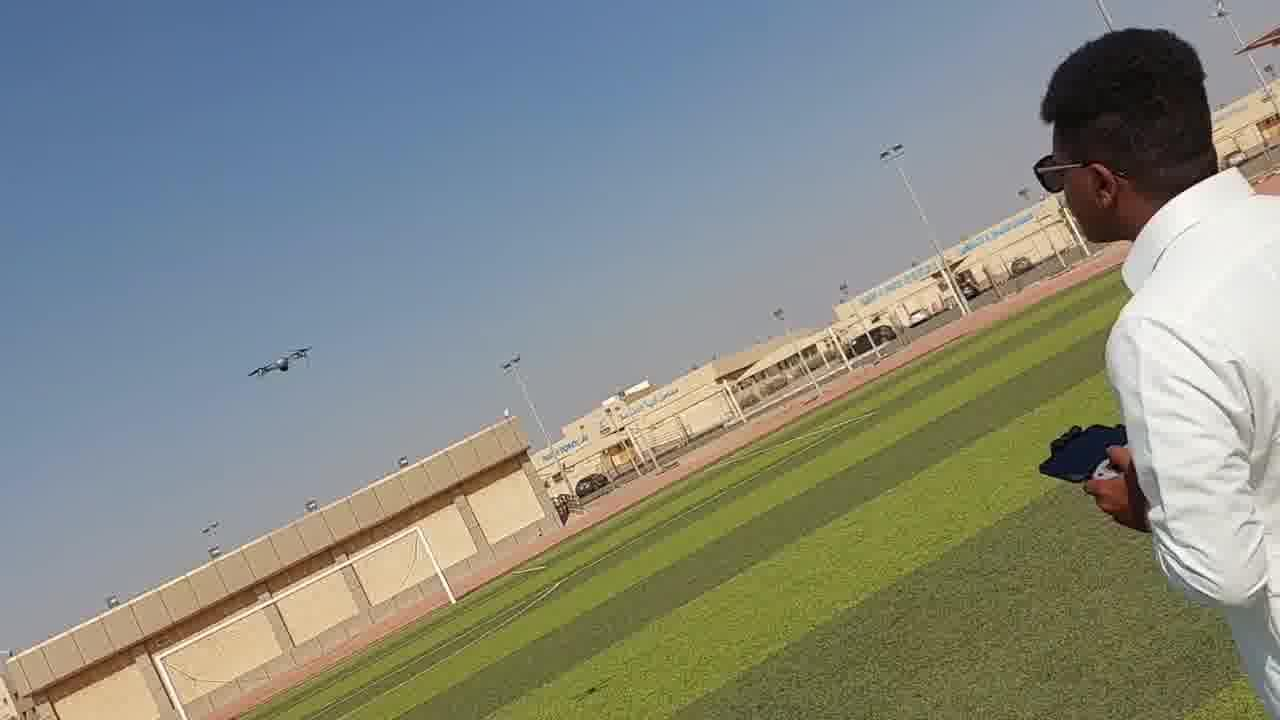drone: (242, 339, 324, 386)
